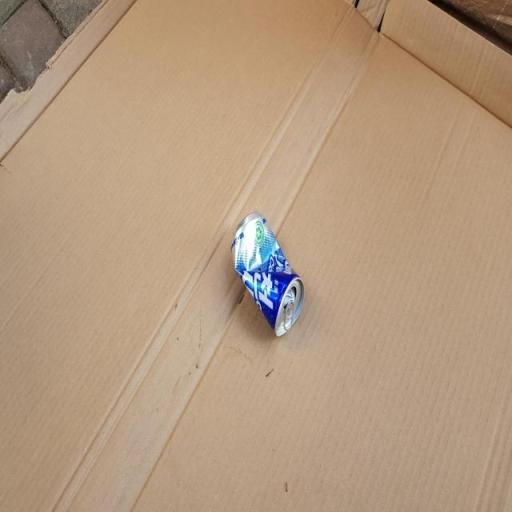metal: (218, 190, 312, 351)
